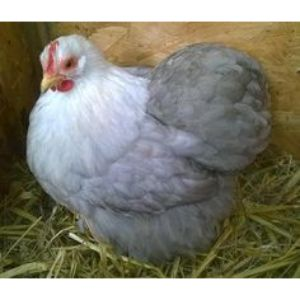hen: (17, 33, 277, 267)
